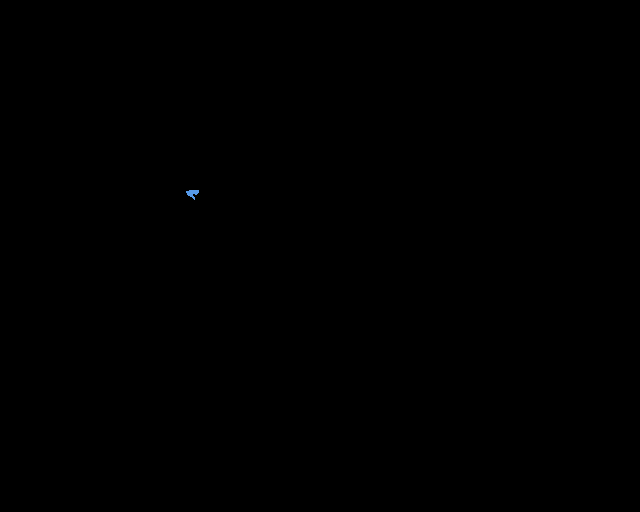Airplane: (186, 190, 198, 199)
